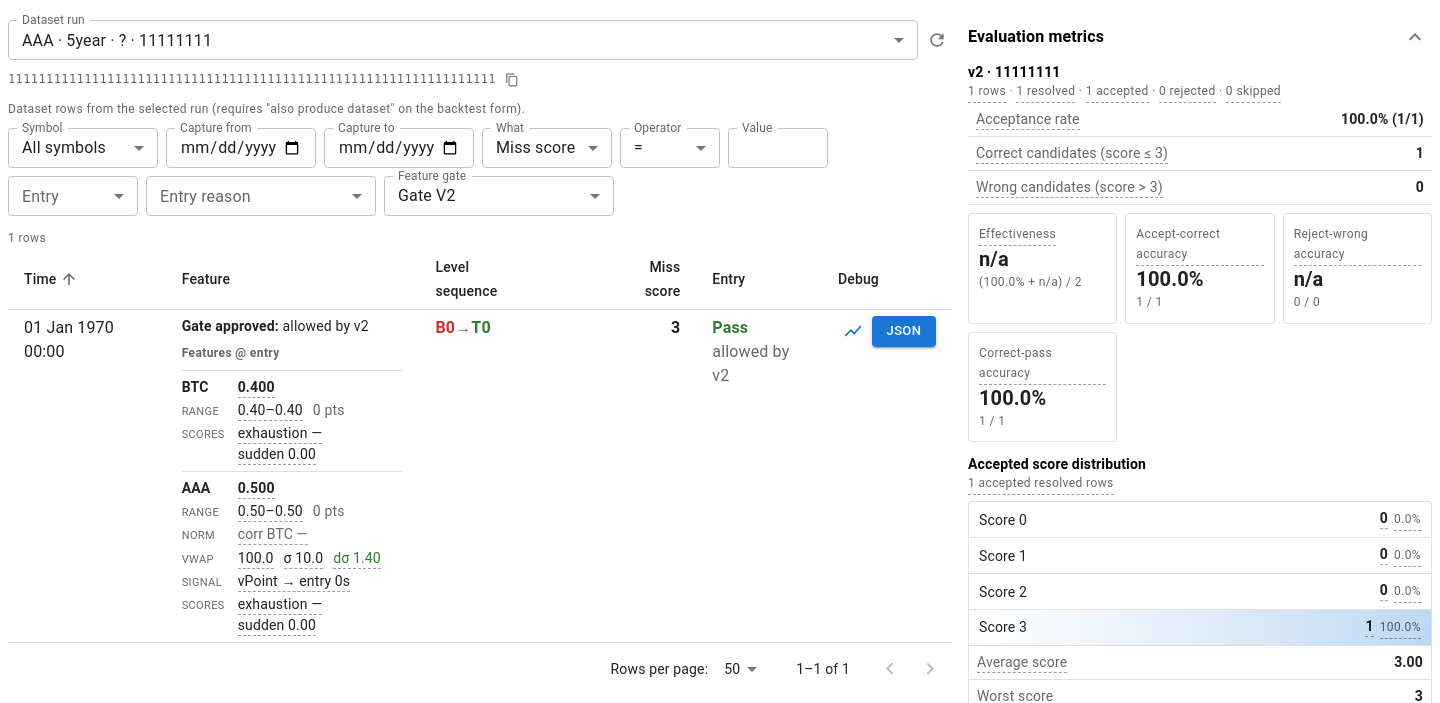
Test: feature-gate dataset selection › re-evaluates when the gate changes and loads the next dataset once
The width and height of the screenshot is (1440, 703).
Expected: the text "Pass" is shown, [712,318,748,337]
Press the mouse on the dropdown named "Feature gate" at (427, 196), box [398,186,456,205]
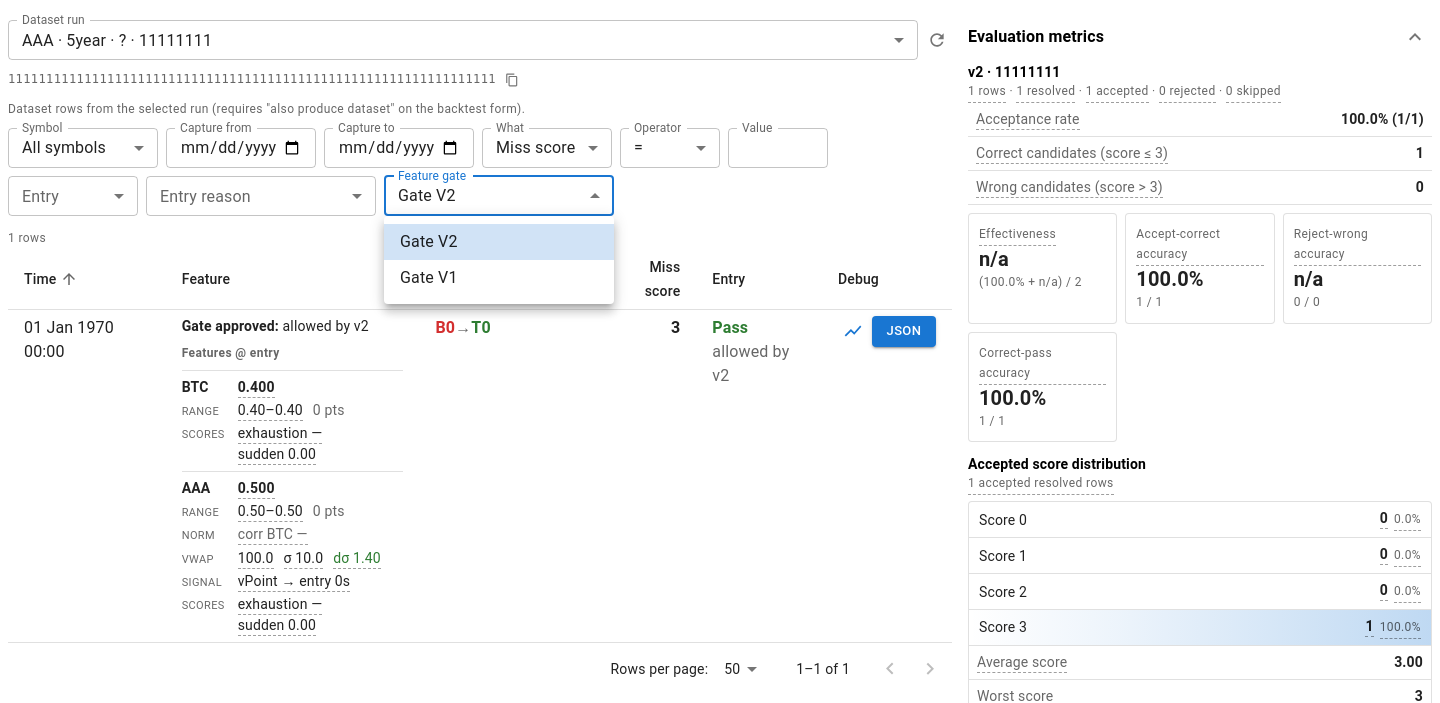
Click the option "Gate V1" at (429, 278), box [400,268,458,287]
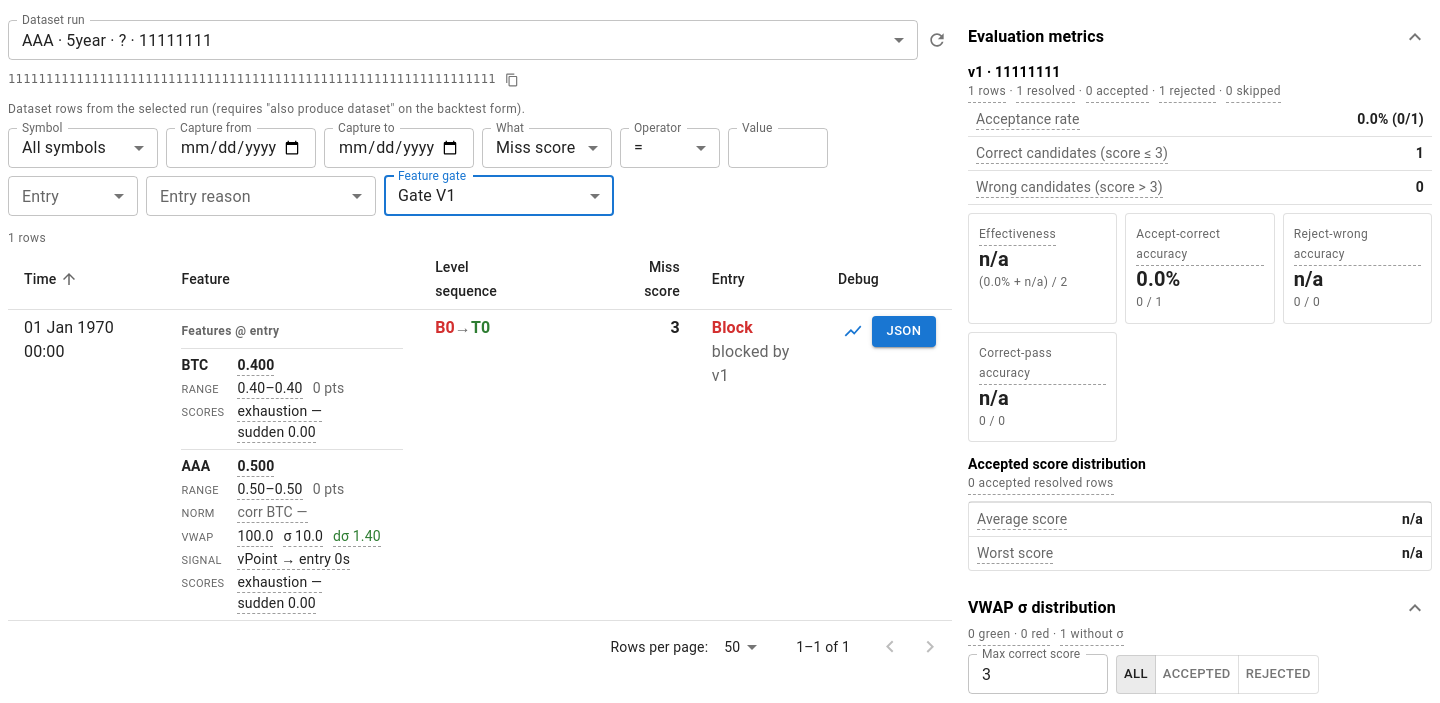
Expected: the text "Block" is shown, [712,318,753,337]
Expected: the text "Gate approved:" is gone
Press the mouse on the dropdown named "Dataset run" at (117, 40), box [22,30,212,50]
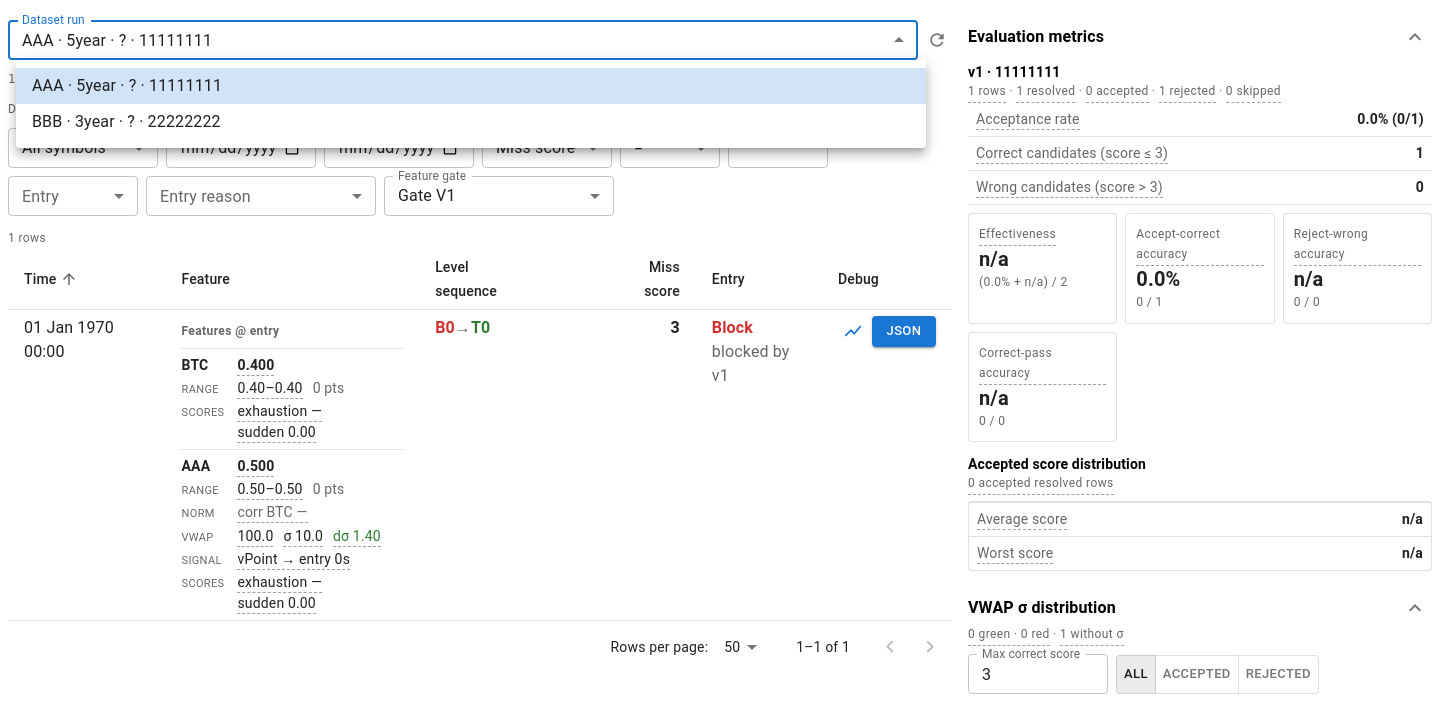
Click the option "BBB · 3year · ? · 22222222" at (126, 122), box [32,112,221,131]
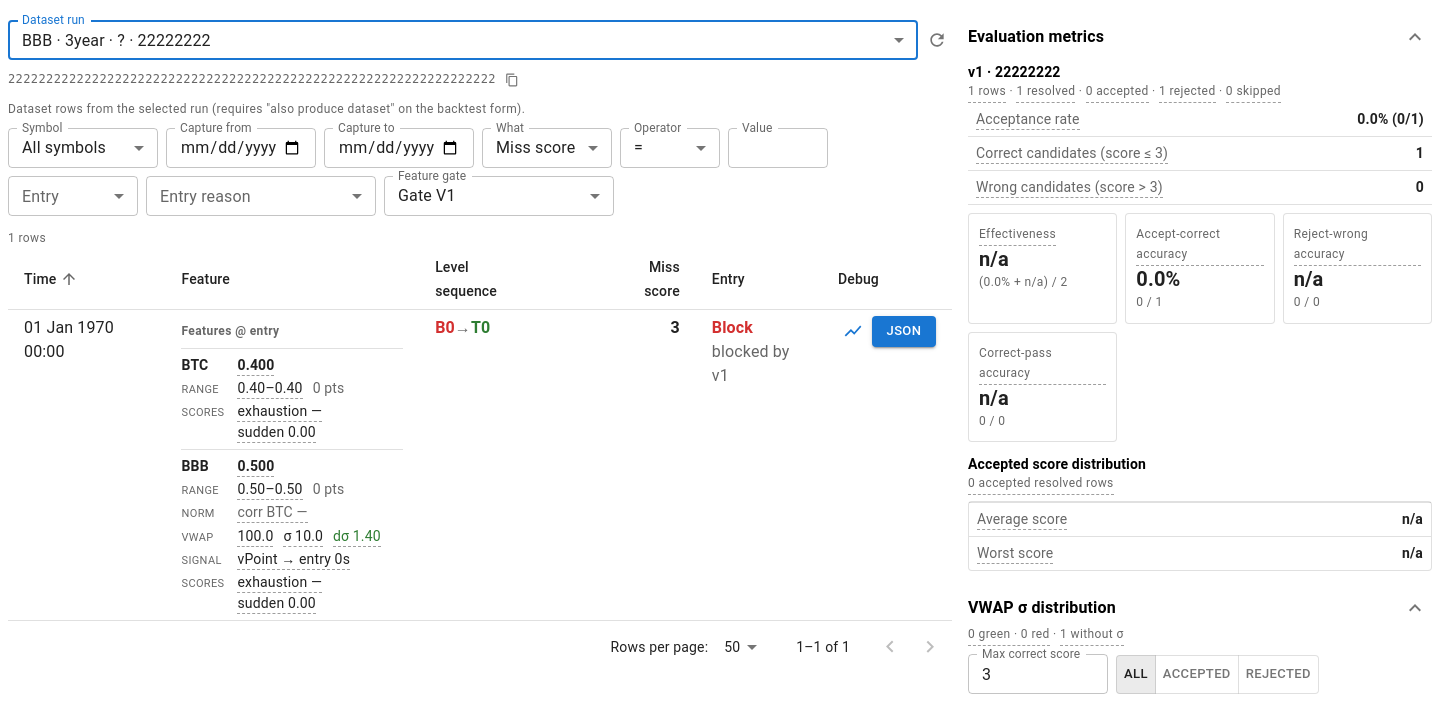
Expected: the text "v1 · 22222222" is shown, [968,64,1060,80]
